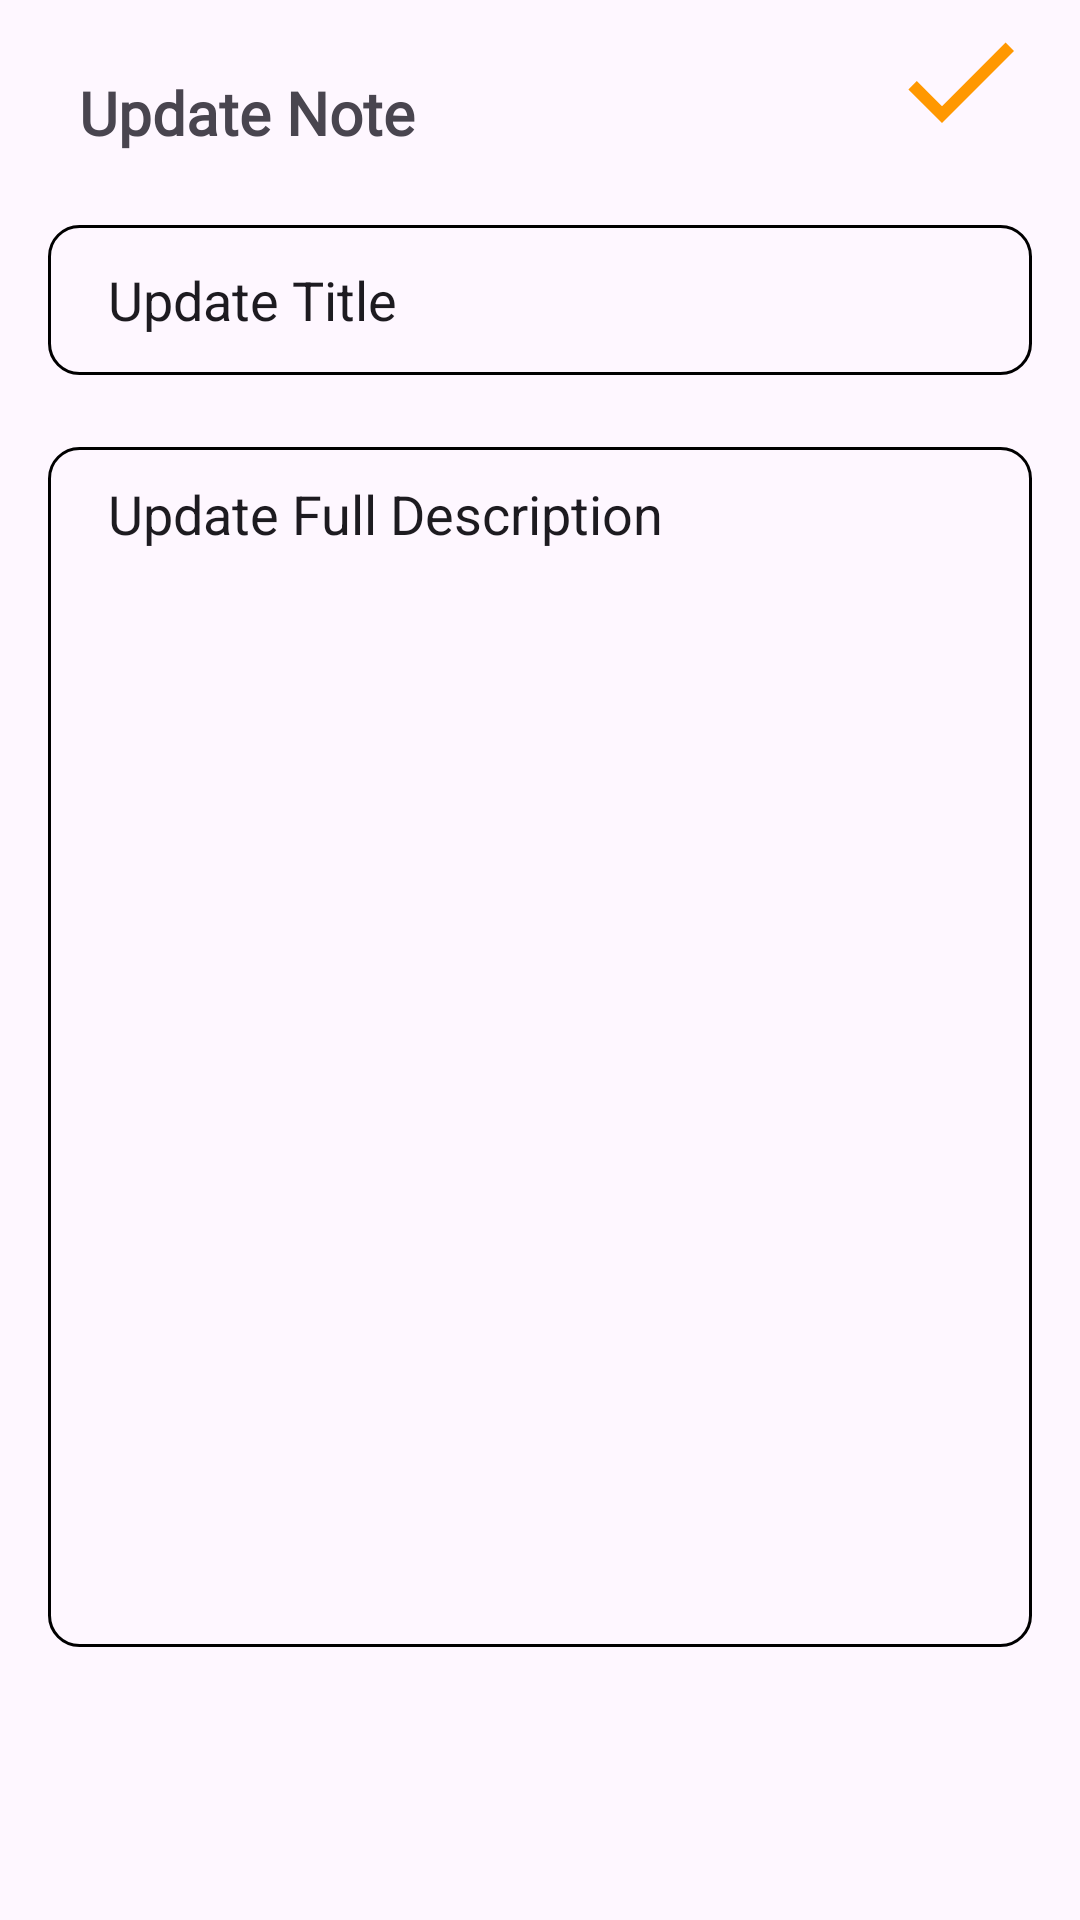

Named icons in this screenshot (1080px×1920px) and their bounding boxes, [x1=x1, y1=y1, x2=x2, y2=y2]:
done: [x1=908, y1=42, x2=1014, y2=123]
